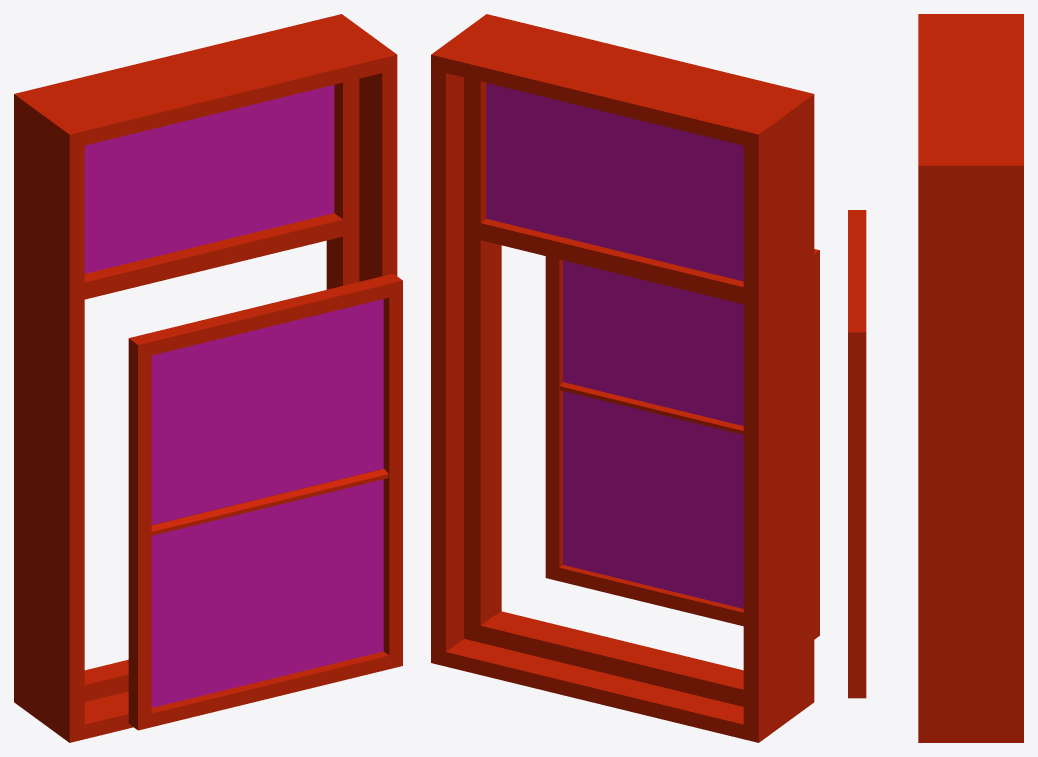
Rendered from Small_hangar_window_v1w.FBX.
The picture shows the model from 3 angles, left to right: view 1: azimuth 30°, elevation 25°; view 2: azimuth 150°, elevation 25°; view 3: azimuth 270°, elevation 25°; orthographic projection. The views are drawn at different scales.
Visible parts, largest first — view 1: Small_hangar_window_v1, Glass_v2_p1, Glass_v2, Small_hangar_window_v1_p1; view 2: Small_hangar_window_v1, Glass_v2_p1, Glass_v2, Small_hangar_window_v1_p1; view 3: Small_hangar_window_v1, Small_hangar_window_v1_p1.
Part boxes in pixels (x1,y1,x2,y2): Small_hangar_window_v1: [14, 14, 397, 742]; Glass_v2_p1: [151, 299, 383, 707]; Glass_v2: [84, 85, 334, 273]; Small_hangar_window_v1_p1: [128, 273, 402, 730]; Small_hangar_window_v1: [431, 14, 814, 742]; Glass_v2_p1: [563, 260, 743, 608]; Glass_v2: [486, 83, 743, 281]; Small_hangar_window_v1_p1: [545, 249, 819, 639]; Small_hangar_window_v1: [918, 14, 1023, 742]; Small_hangar_window_v1_p1: [848, 210, 866, 698].
Size of the model in its own units: 1.48 by 2.62 by 0.7235.
